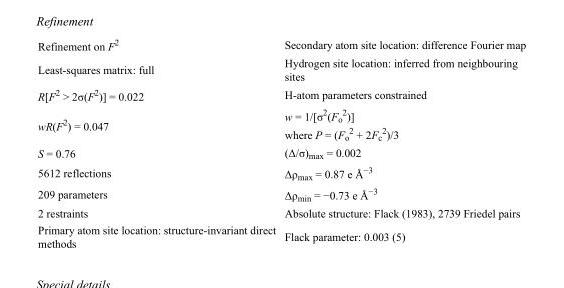table: (37, 36, 525, 249)
table column: (279, 36, 525, 249), (37, 36, 279, 249)
table row: (37, 104, 525, 143), (37, 54, 525, 84), (37, 221, 525, 249), (37, 162, 525, 183), (37, 183, 525, 204), (37, 84, 525, 104), (37, 143, 525, 162), (37, 36, 525, 54), (37, 204, 525, 221)
